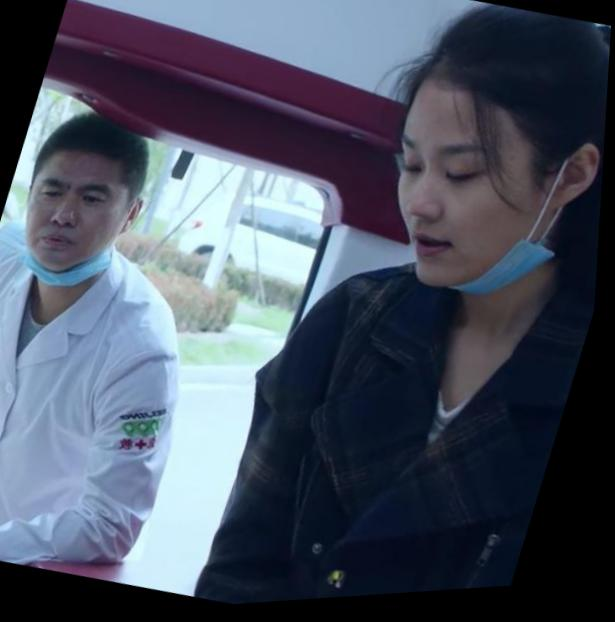WRONG: (361, 103, 579, 325), (14, 155, 134, 290)
